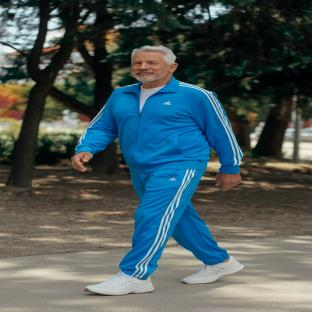Human: (72, 46, 244, 295)
